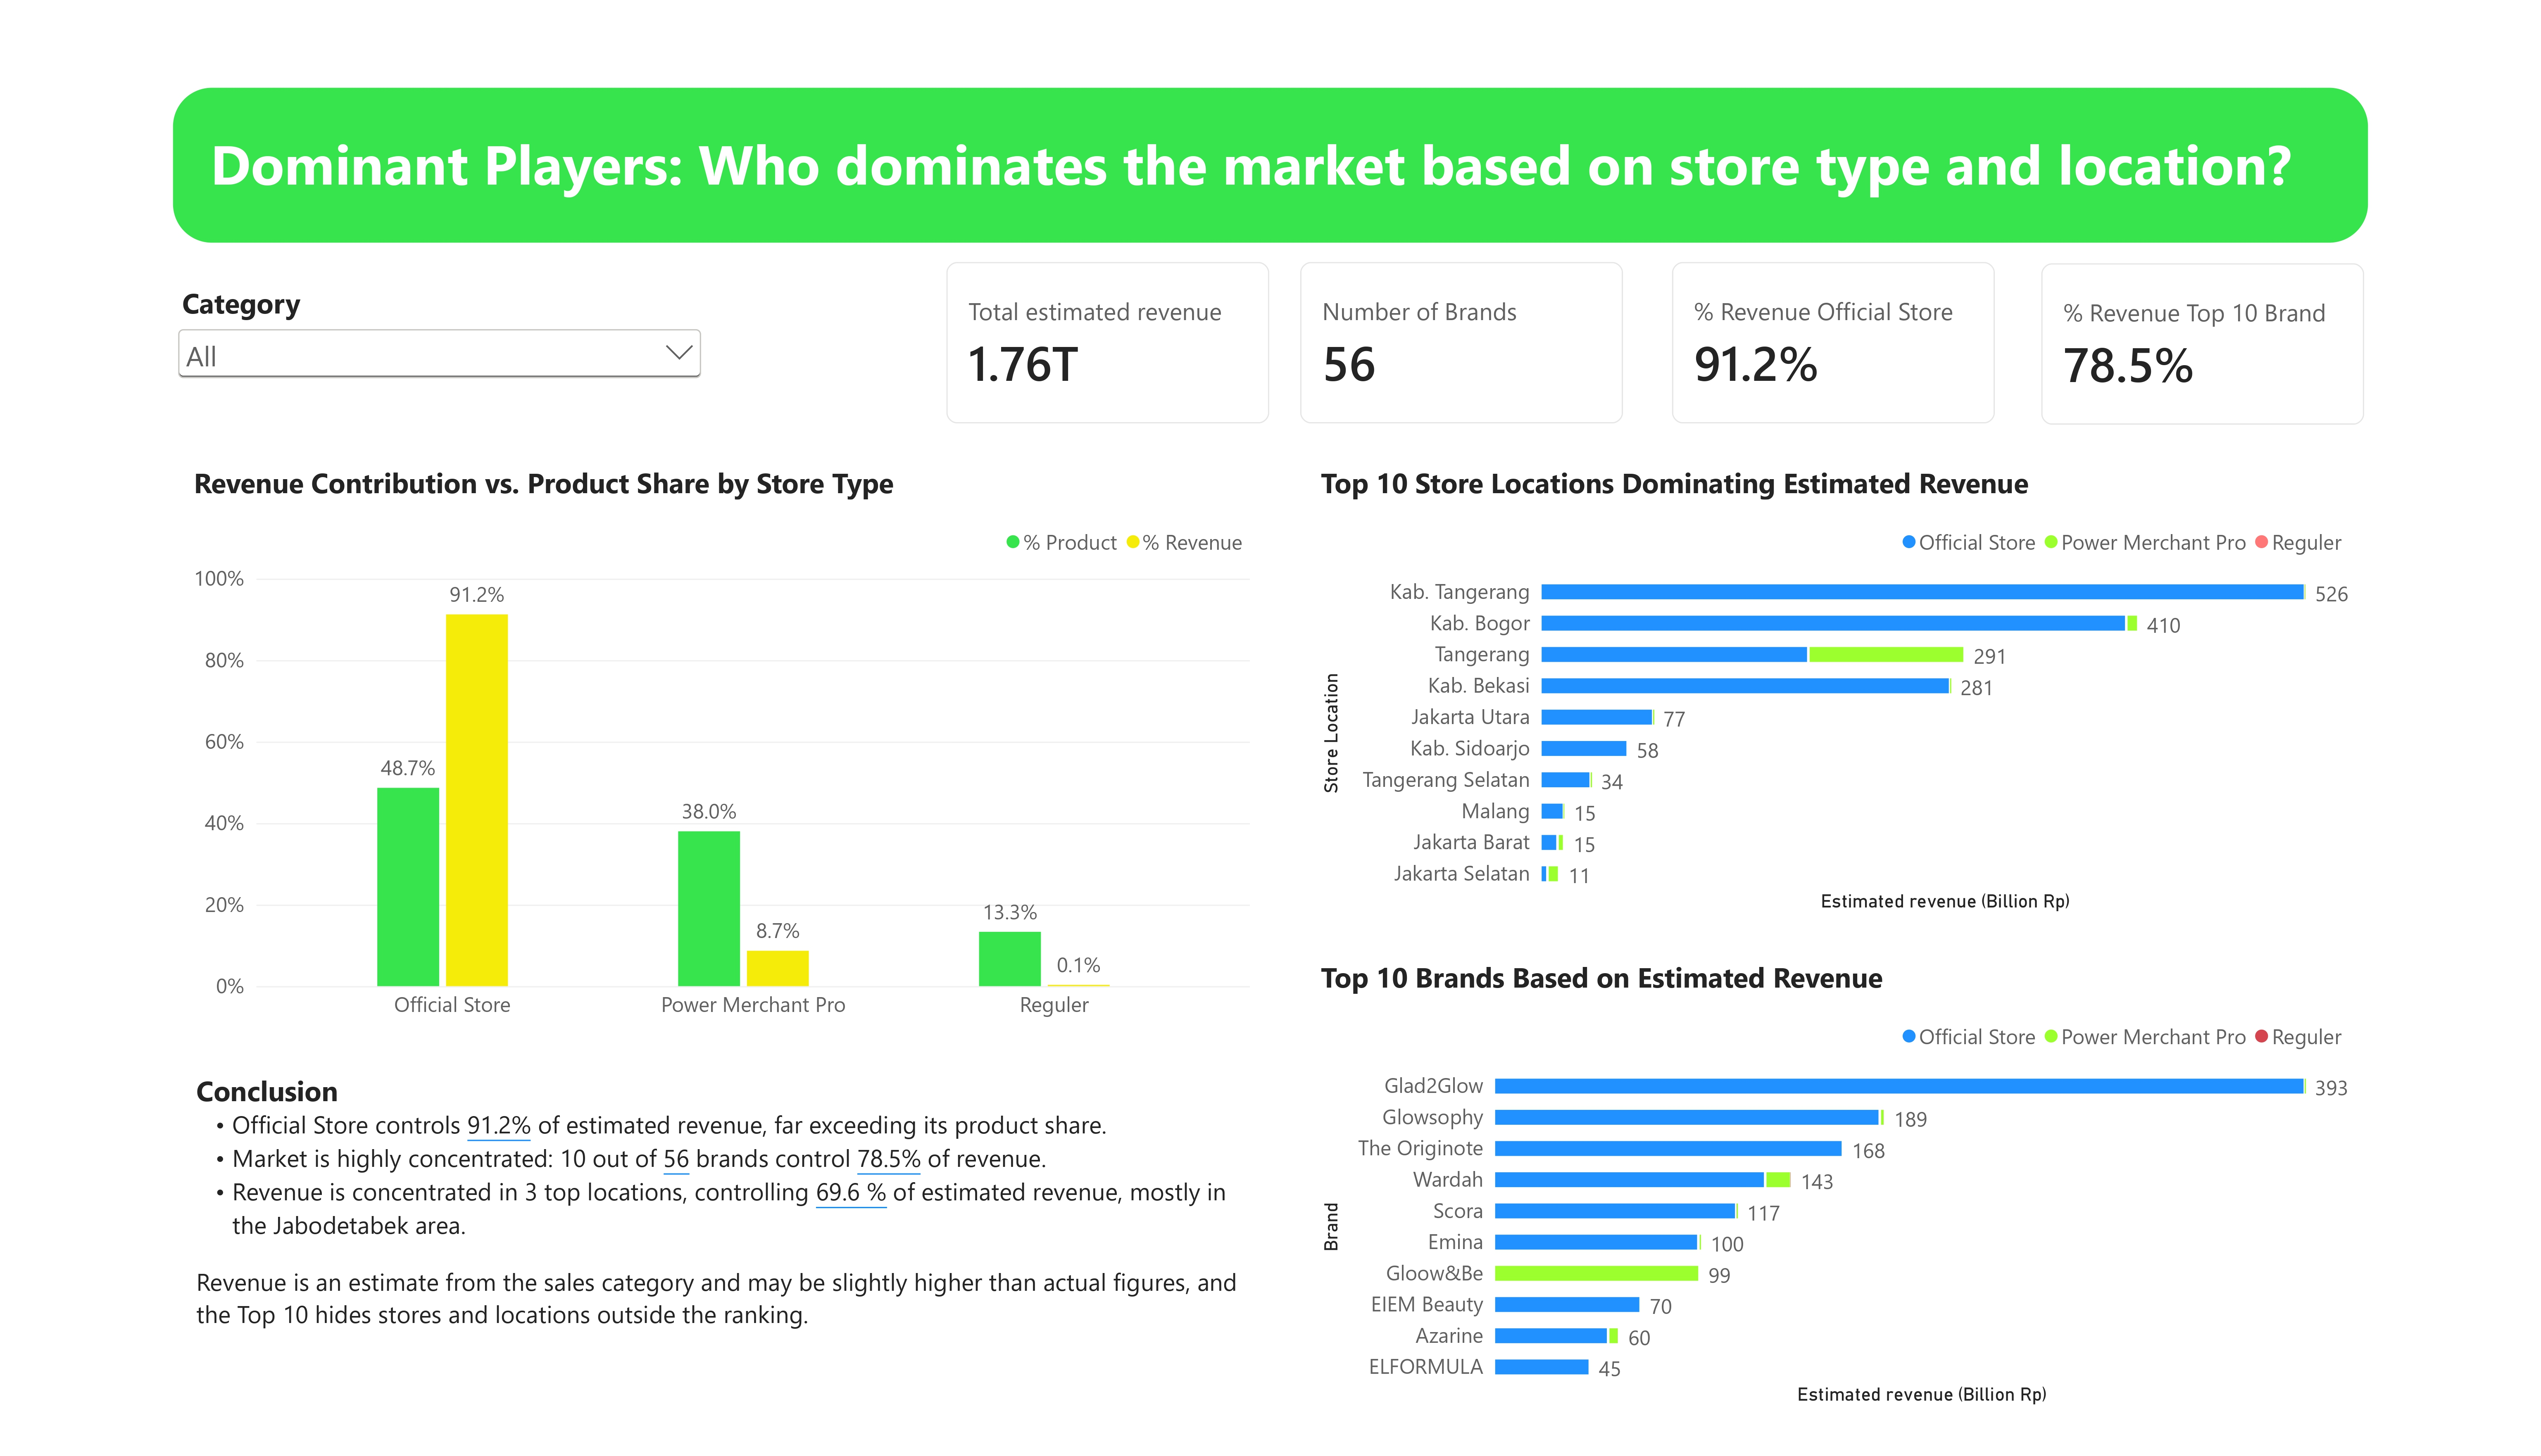

The dashboard page shown, as its layout file describes it:
{"tool":"powerbi","page":{"name":"RQ3","canvas":[1920,1080],"ordinal":2},"visuals":[{"type":"shape","box":[110,44,1700,120],"z":0},{"type":"clusteredColumnChart","title":"Revenue Contribution vs. Product Share by Store Type","fields":{"Category":["clean_skincare.shop_badge"],"Y":["clean_skincare.% Produk","clean_skincare.% Revenue"]},"box":[110.4,321.2,849.4,465.1],"z":1000},{"type":"barChart","title":"Top 10 Store Locations Dominating Estimated Revenue","fields":{"Category":["clean_skincare.shop_location"],"Series":["clean_skincare.shop_badge"],"Y":["clean_skincare.Revenue (Miliar)"]},"box":[983.4,321.2,827.7,376.4],"z":2000},{"type":"barChart","title":"Top 10 Brands Based on Estimated Revenue","fields":{"Category":["clean_skincare.brand"],"Series":["clean_skincare.shop_badge"],"Y":["clean_skincare.Revenue (Miliar)"]},"box":[983.4,703.6,827.7,376.4],"z":3000},{"type":"cardVisual","fields":{"Data":["clean_skincare.Total Revenue"]},"box":[709.5,179.3,250,125],"z":4000},{"type":"cardVisual","fields":{"Data":["clean_skincare.Jumlah Brand"]},"box":[983.4,179.3,250,125],"z":5000},{"type":"cardVisual","fields":{"Data":["clean_skincare.% Revenue Official Store"]},"box":[1271.2,179.3,250,125],"z":6000},{"type":"cardVisual","fields":{"Data":["clean_skincare.% Revenue Top 10 Brand"]},"box":[1556.6,179.6,250,125],"z":7000},{"type":"slicer","fields":{"Values":["clean_skincare.search_keyword"]},"box":[109.4,196.1,415,88.8],"z":9000},{"type":"textbox","box":[108.4,786.4,851.4,293.6],"z":9001}]}

Visuals, with their boxes on the page's 1920x1080 design canvas (x1, y1, x2, y2). These are canvas units, not pixel positions in the 2541x1456 screenshot, which may show the page scaled, cropped or inside an application window:
shape: <box>110,44,1810,164</box>
"Revenue Contribution vs. Product Share by Store Type" clusteredColumnChart: <box>110,321,960,786</box>
"Top 10 Store Locations Dominating Estimated Revenue" barChart: <box>983,321,1811,698</box>
"Top 10 Brands Based on Estimated Revenue" barChart: <box>983,704,1811,1080</box>
cardVisual - clean_skincare.Total Revenue: <box>710,179,960,304</box>
cardVisual - clean_skincare.Jumlah Brand: <box>983,179,1233,304</box>
cardVisual - clean_skincare.% Revenue Official Store: <box>1271,179,1521,304</box>
cardVisual - clean_skincare.% Revenue Top 10 Brand: <box>1557,180,1807,305</box>
slicer - clean_skincare.search_keyword: <box>109,196,524,285</box>
textbox: <box>108,786,960,1080</box>
